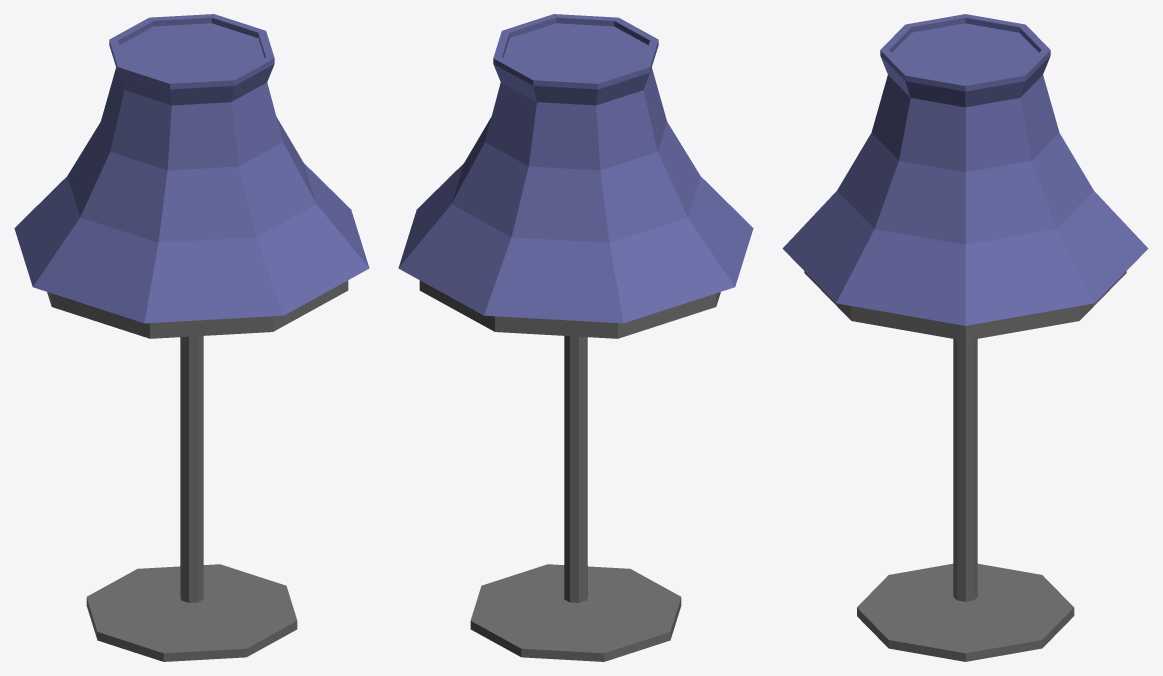
Rendered from msh_lamp_02.fbx.
3 views of the same model, side by side, from view 1: azimuth 30°, elevation 25°; view 2: azimuth 150°, elevation 25°; view 3: azimuth 270°, elevation 25° (orthographic).
Visible parts, largest first — view 1: msh_lamp_02; view 2: msh_lamp_02; view 3: msh_lamp_02.
Part boxes in pixels (<box>): msh_lamp_02: <box>14,14,369,661</box>; msh_lamp_02: <box>398,14,753,661</box>; msh_lamp_02: <box>782,14,1148,661</box>.
Size of the model in its own units: 39.02 by 66.57 by 39.02.
